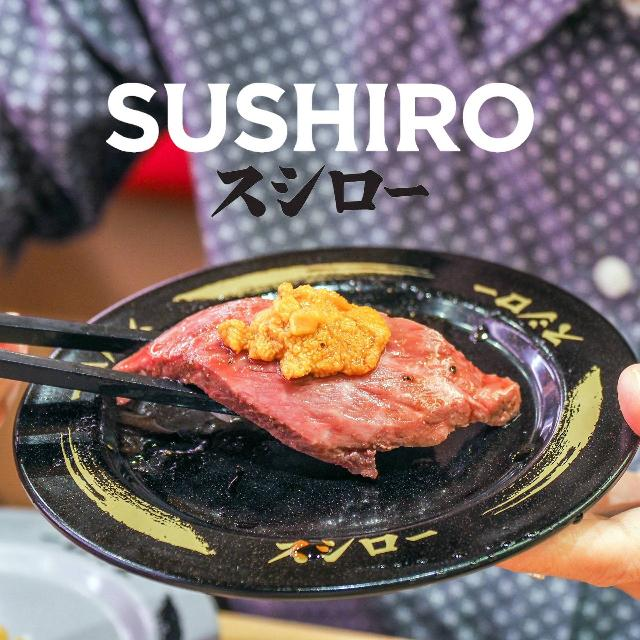janback: (22, 459, 497, 591), (475, 262, 618, 531), (151, 248, 516, 283)
